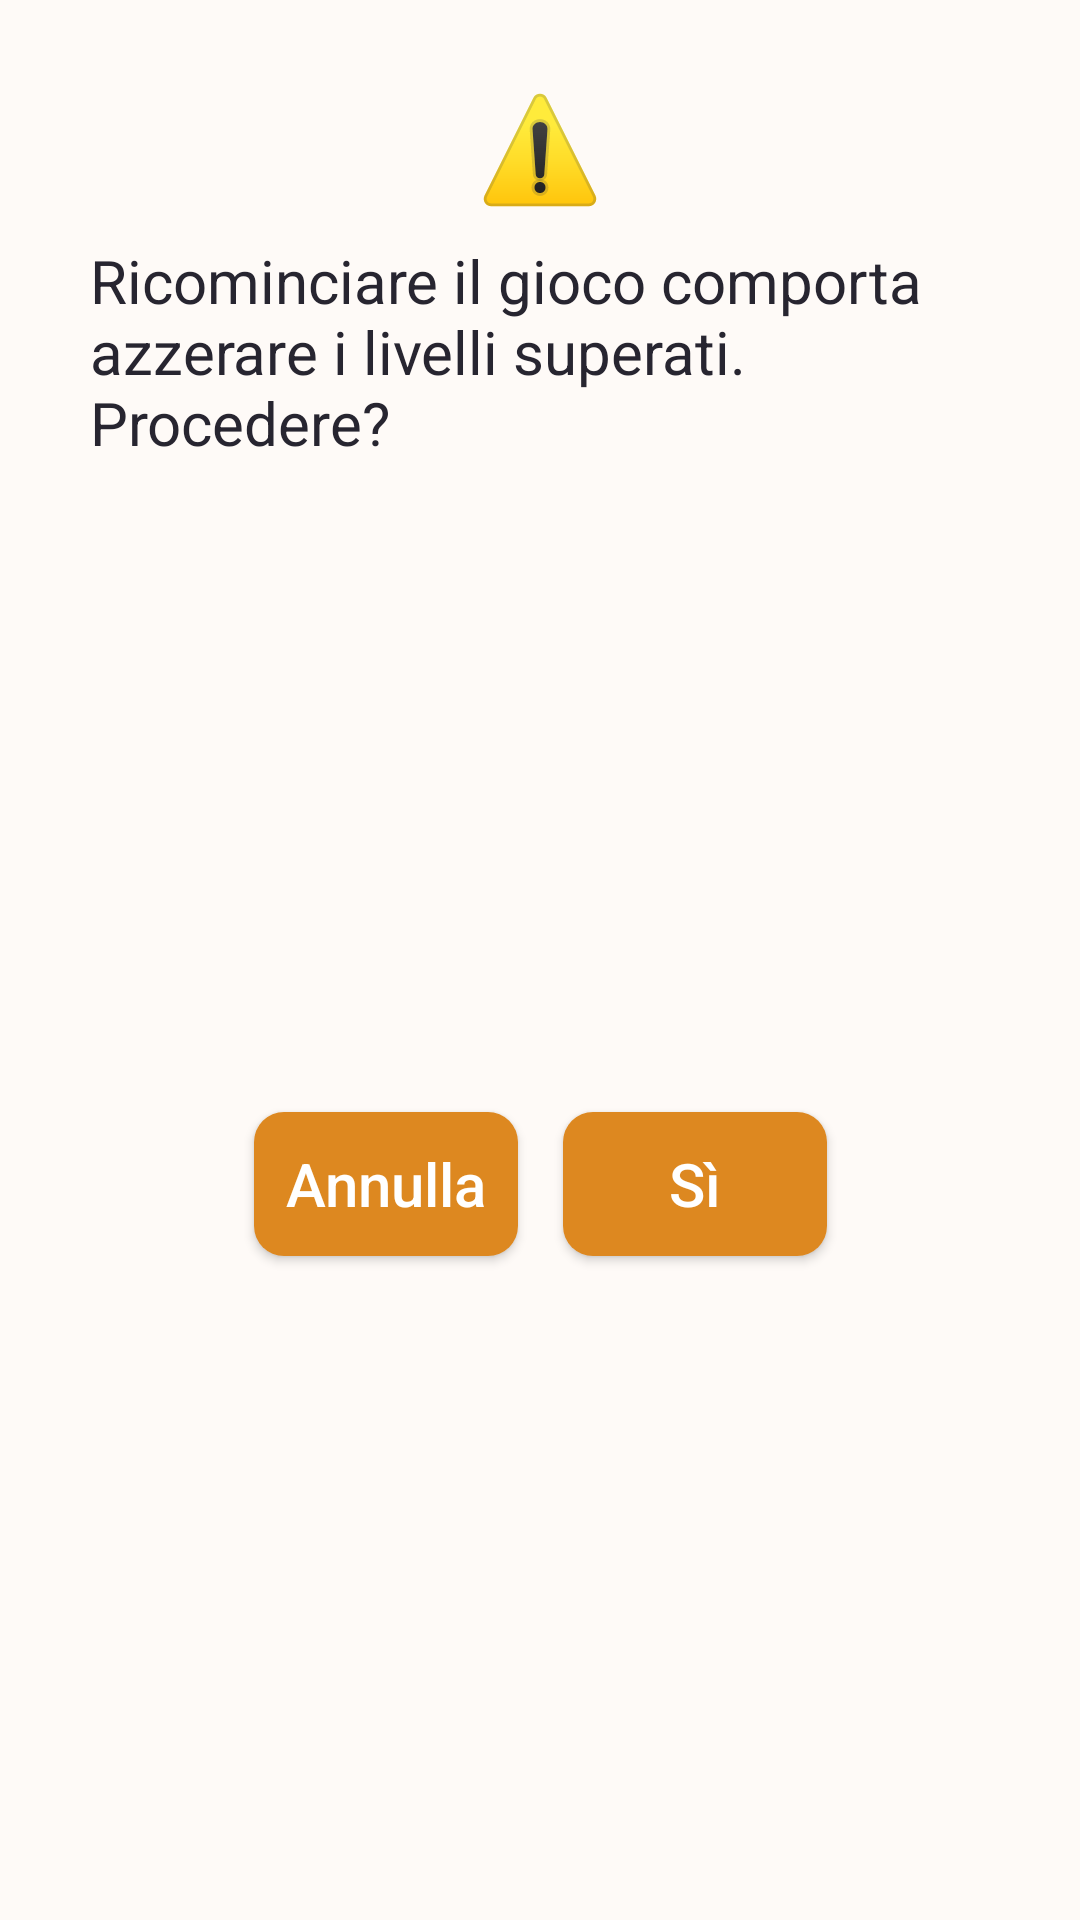

Screen size 1080 x 1920. Icon name, then its center in pixels as point (x, y):
alert warning: point (540, 150)
